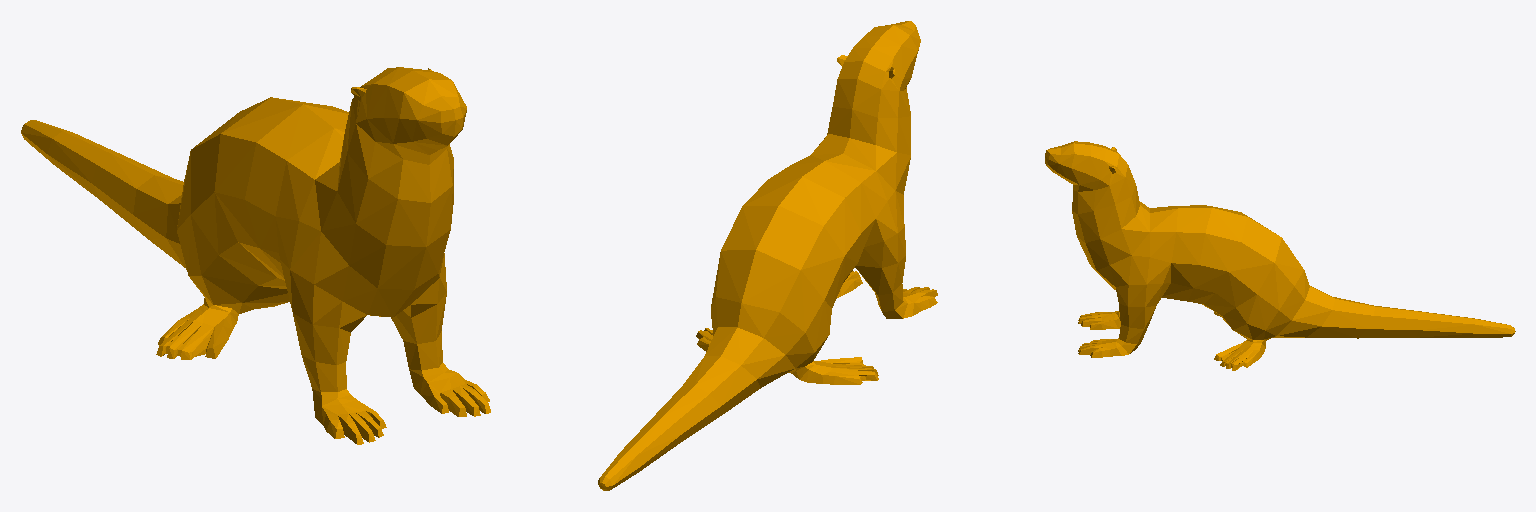
robot.urdf — mesh_object:
<?xml version="1.0" ?>
<robot name="mesh_object">
  <link name="base">
    <visual>
      <geometry>
        <mesh filename="ferret_3_v000.obj" scale="1 1 1"/>
      </geometry>
    </visual>
    <collision>
      <geometry>
        <mesh filename="ferret_3_v000.obj" scale="1 1 1"/>
      </geometry>
    </collision>
    <inertial>
      <origin xyz="0.000000 0.018030 0.020983" rpy="0 0 0"/>
      <mass value="0.500000"/>
      <inertia ixx="0.01" iyy="0.01" izz="0.01" ixy="0" ixz="0" iyz="0"/>
    </inertial>
  </link>
</robot>

--- Render facts (derived) ---
3 views of the same robot in one strip: view 1: azimuth 30°, elevation 25°; view 2: azimuth 150°, elevation 25°; view 3: azimuth 270°, elevation 25° (orthographic).
Model mesh_object with 1 links and 0 joints (none), rooted at base, posed all joints at 0.
Visible links, largest first — view 1: base; view 2: base; view 3: base.
Boxes of the visible links, <box> form: base: <box>21,67,490,444</box>; base: <box>598,21,937,490</box>; base: <box>1045,141,1515,370</box>.
Bounding box of the posed robot: 0.0312 × 0.0923 × 0.042 m (x, y, z).
1 mesh visuals loaded from 1 distinct referenced files (1 OBJ).
